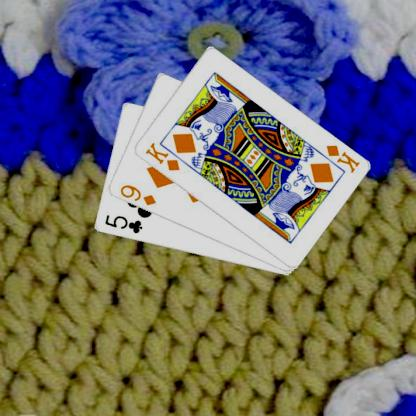5C: (102, 212, 143, 235)
9D: (117, 182, 157, 207)
KD: (143, 140, 181, 172), (323, 142, 361, 174)
